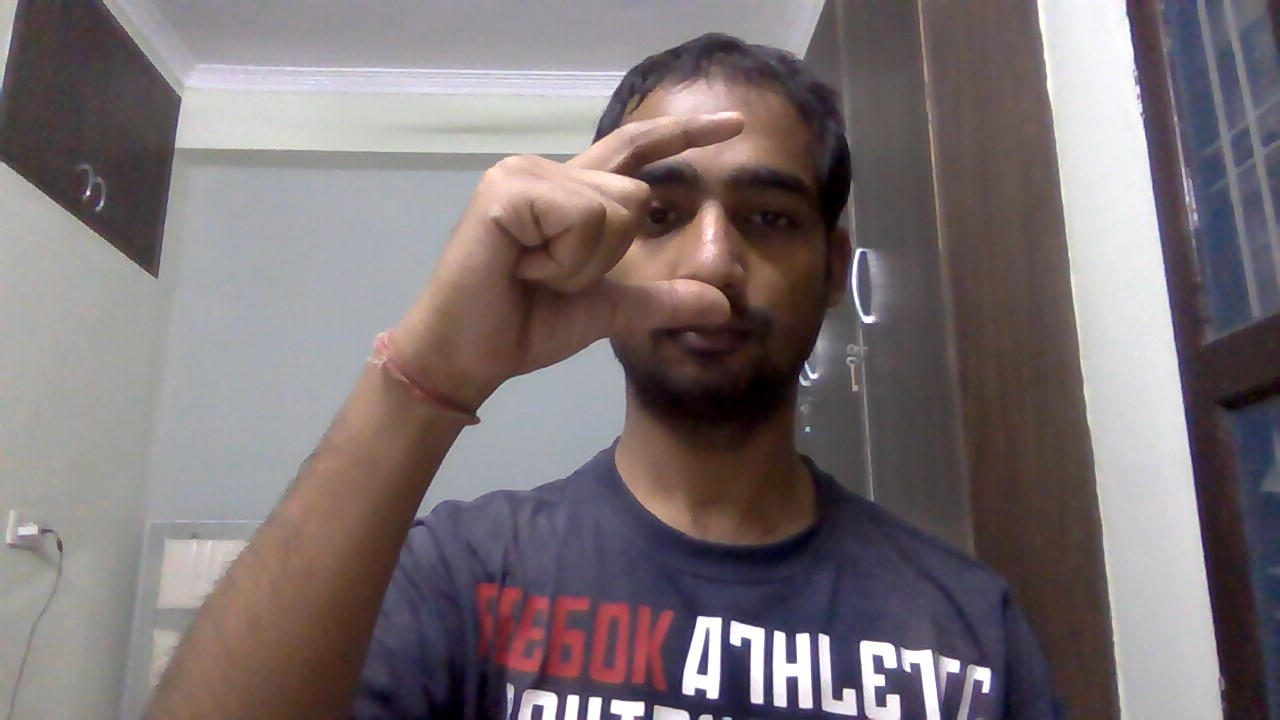Paste: (395, 103, 755, 427)
